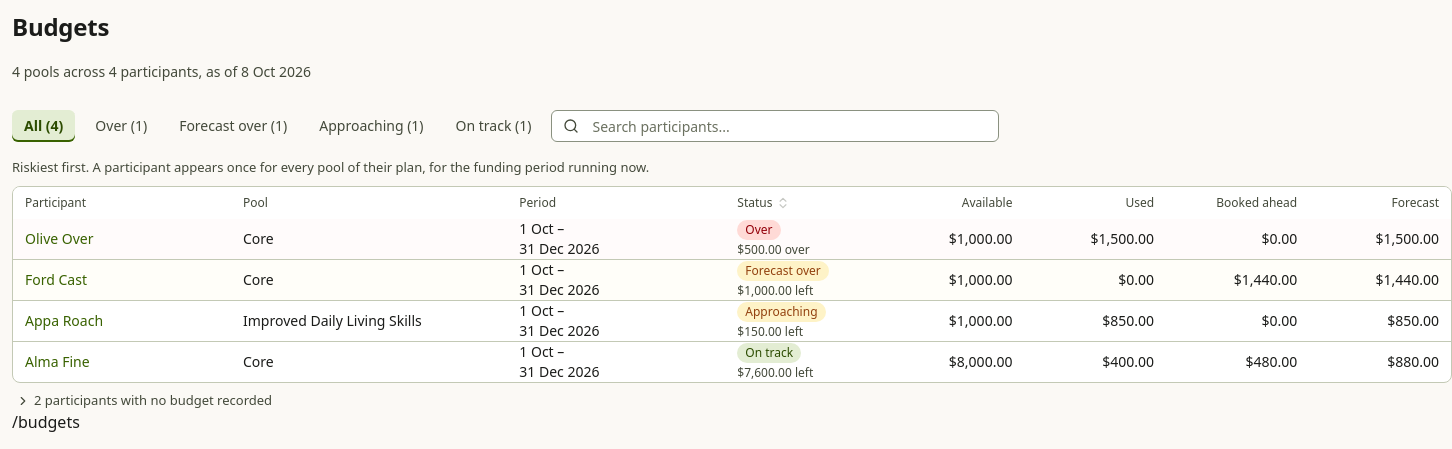
Test case: BudgetsPage: searching for a participant › counts each status within the search, so a filter never promises rows the search has taken away
Type "ford" into the field labelled "Search participants". click: {"x": 776, "y": 126}
box: [552, 110, 1000, 142]
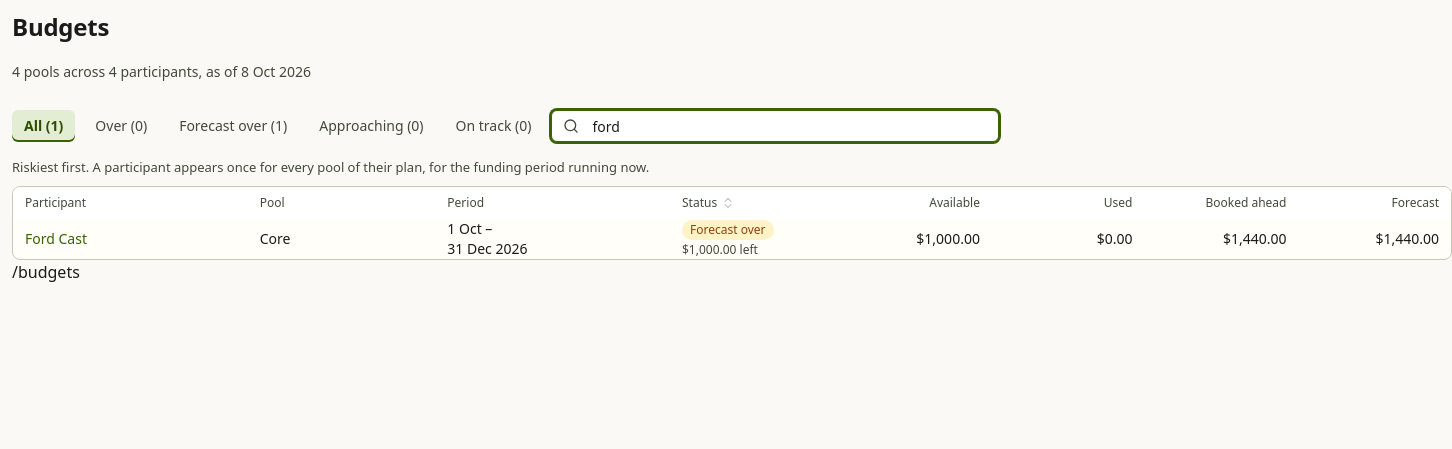
Now the radio button labelled "All (1)" is shown, box [12, 110, 75, 142]
Now the radio button labelled "Over (0)" is shown, box [83, 110, 159, 142]
Now the radio button labelled "Approaching (0)" is shown, box [307, 110, 436, 142]
